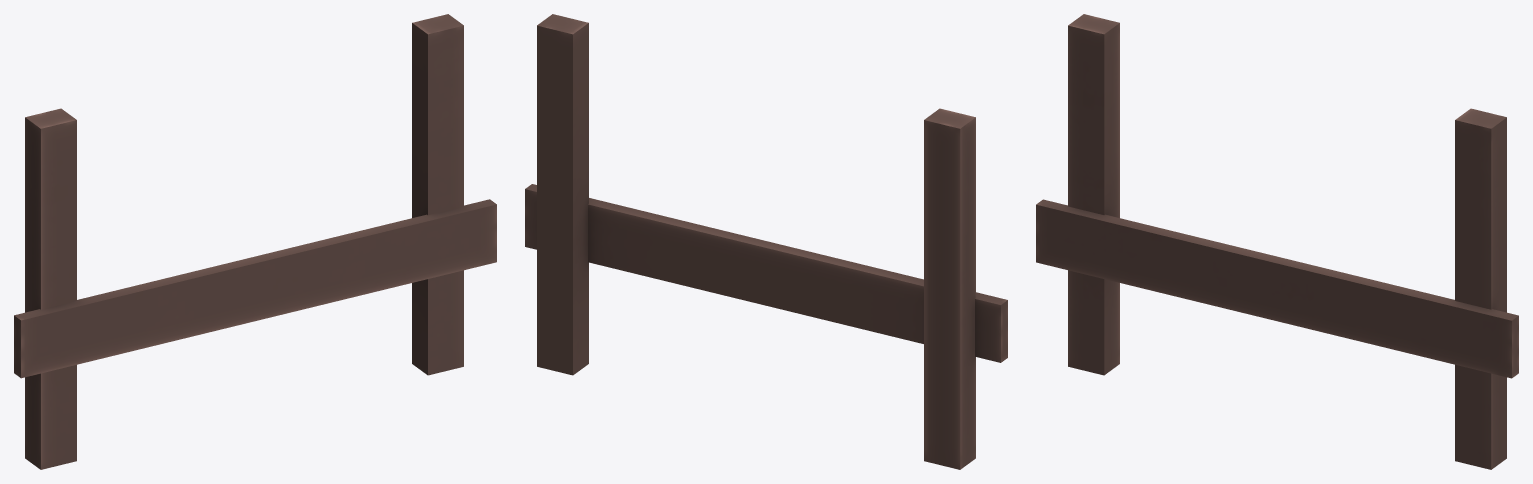
File: Fence_0.fbx
3 renders of one model, left to right at view 1: azimuth 30°, elevation 25°; view 2: azimuth 150°, elevation 25°; view 3: azimuth 330°, elevation 25°, orthographic.
Visible parts, largest first — view 1: Fence_0; view 2: Fence_0; view 3: Fence_0.
Boxes of the visible parts, x1=… form: Fence_0: x1=14, y1=14, x2=496, y2=469; Fence_0: x1=525, y1=14, x2=1007, y2=469; Fence_0: x1=1036, y1=14, x2=1518, y2=469.
Bounding box in the file's own units: 59.83 × 4.78 × 40.98.
Materials: 1 (1 with a texture image).
